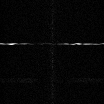wifi: (1, 41, 104, 45)
